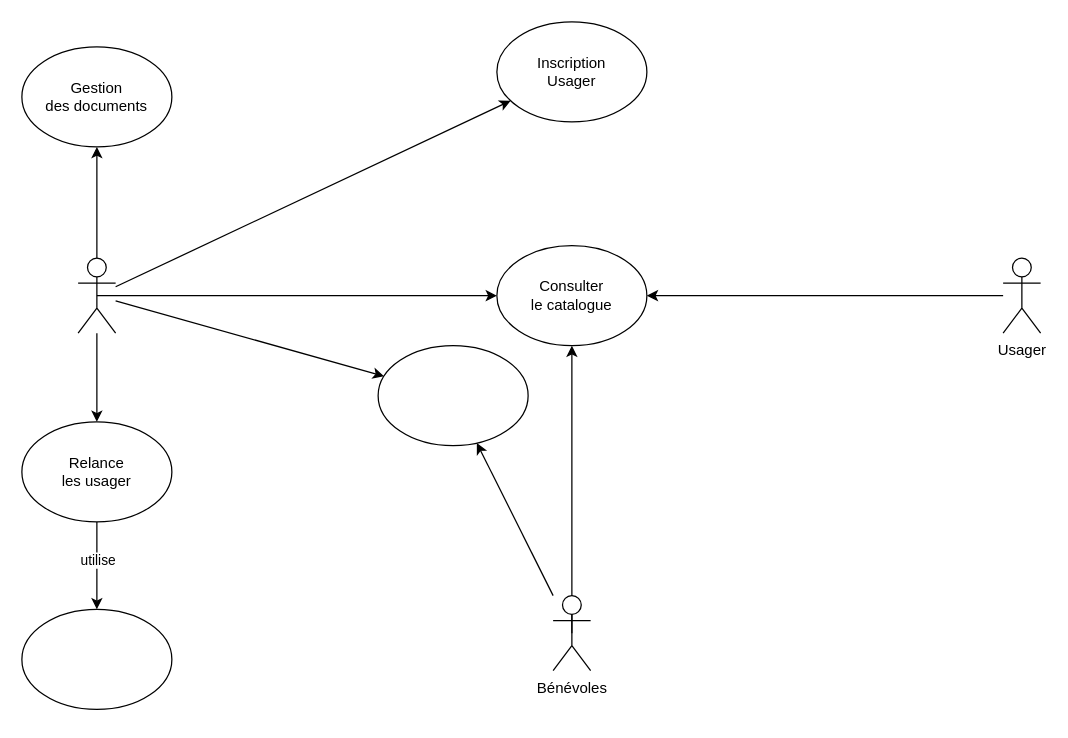
Some shapes in this 1068 by 738 pixel diagram are drawn without their labels. Here are the shapes that lost their labels. From the top down, the box of each, then its label:
(77, 257, 116, 333): Employe
(377, 344, 528, 446): Enregister prêt
(21, 608, 172, 709): Consulter états usager
